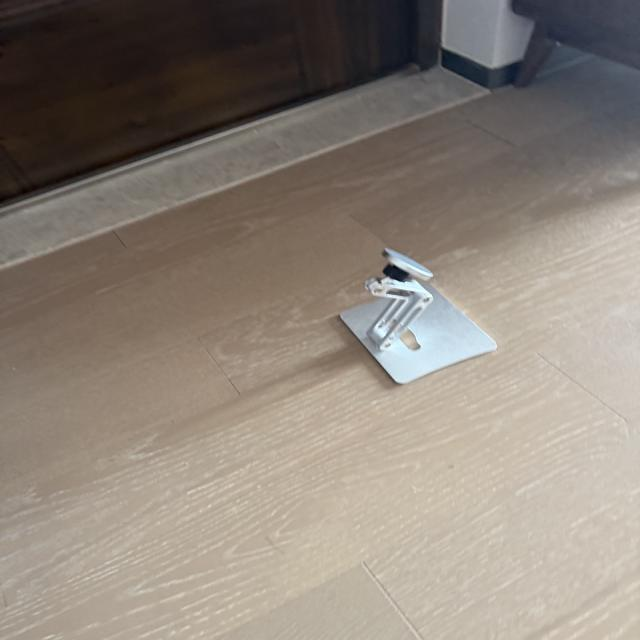phone holder: (333, 243, 502, 389)
